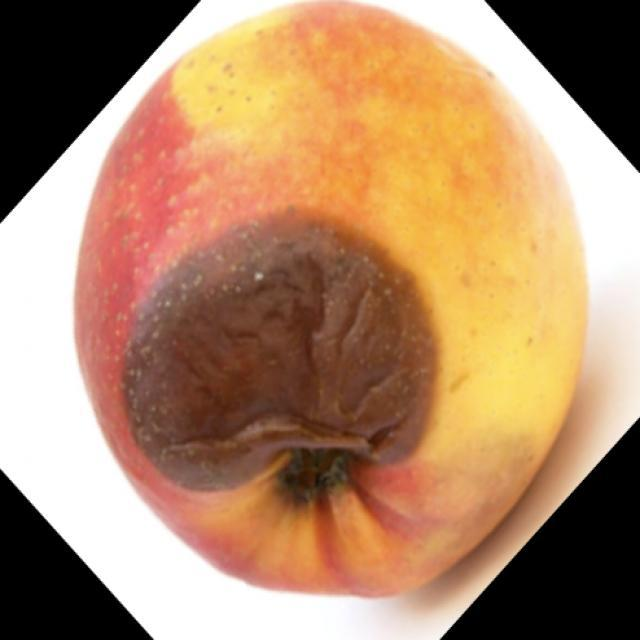Rotten: (87, 17, 603, 575)
